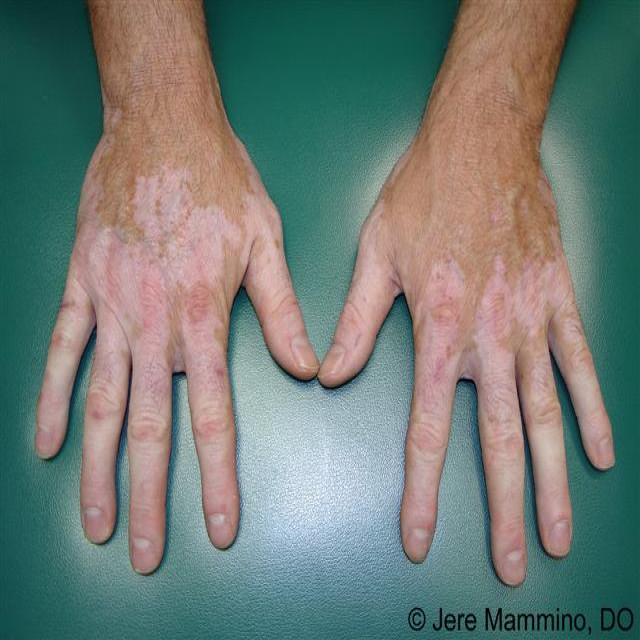vitiligo: (99, 141, 321, 537), (368, 212, 626, 519)
